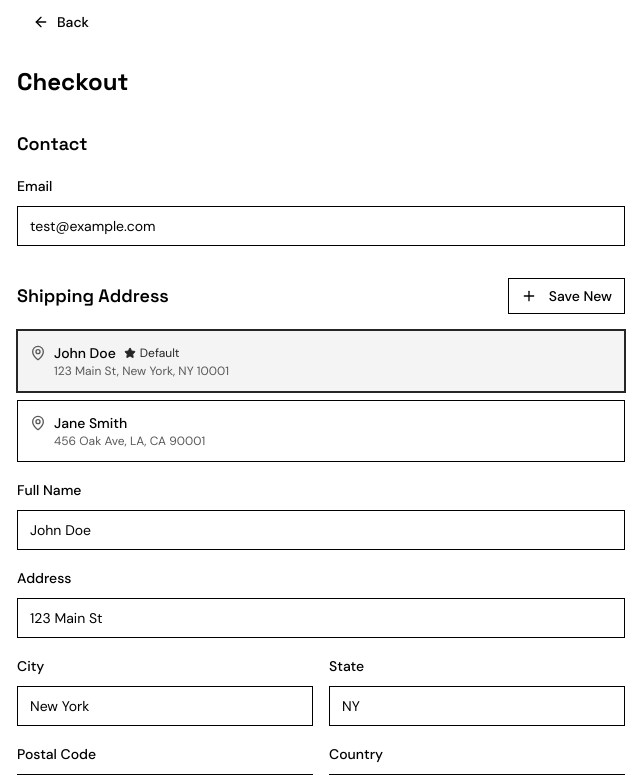
CheckoutPage callbacks › selects a different saved address and populates form
# Click second address
Click the button "Jane Smith 456 Oak Ave, LA, CA 90001". click: (91,423)
box: [17,400,625,462]
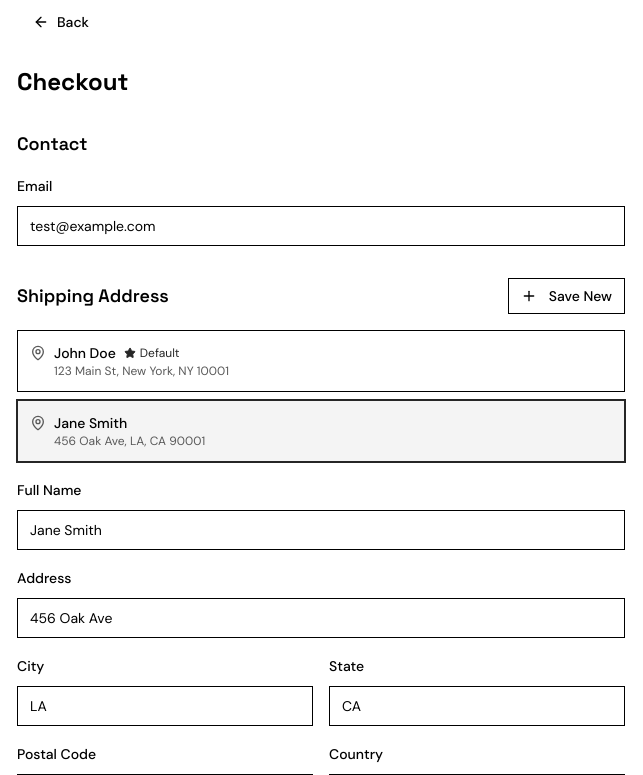
Expected: the field labelled "Full Name" holds "Jane Smith", [17,510,625,550]
